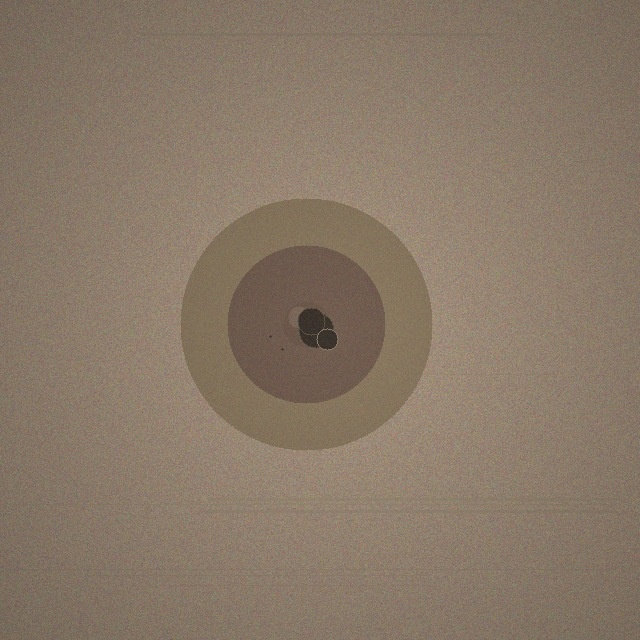shrinkage: (180, 198, 432, 450)
